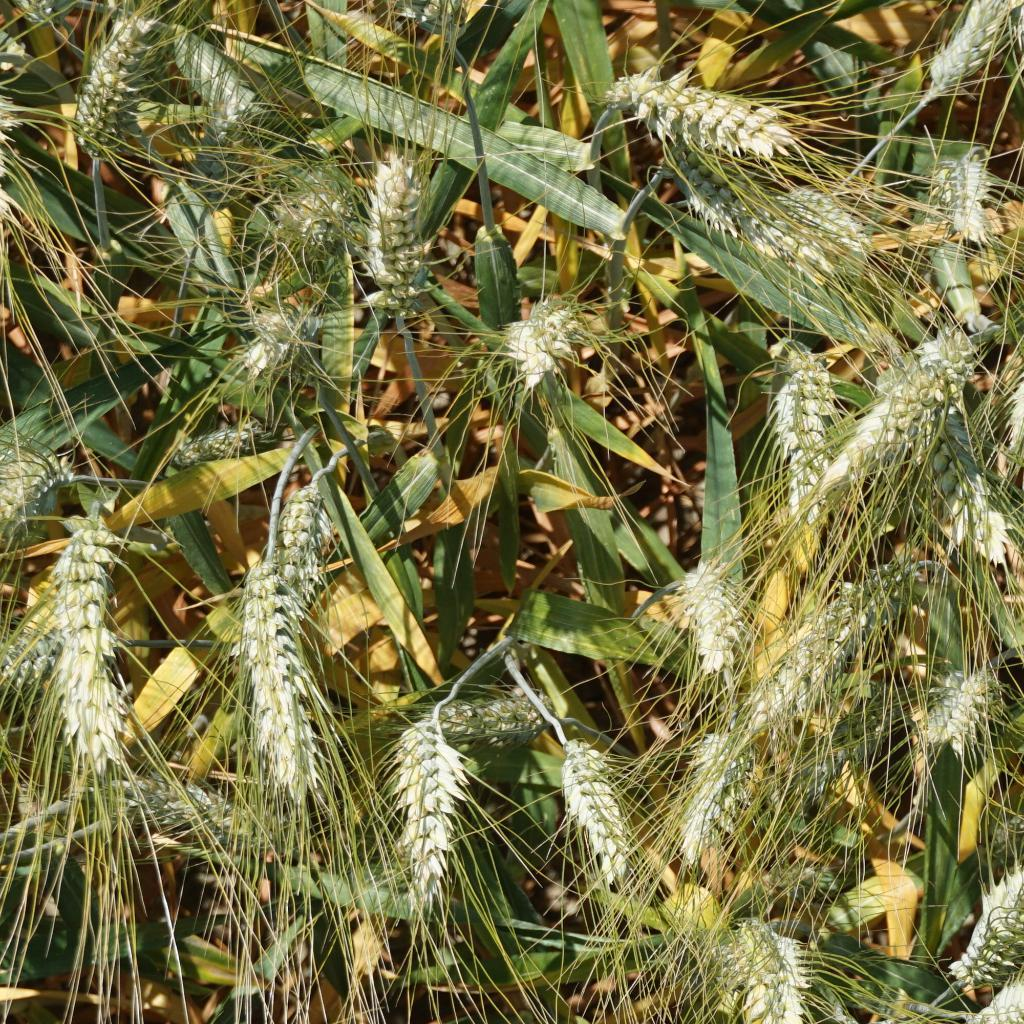0-0: (51, 519, 142, 757), (761, 562, 910, 694), (864, 336, 985, 487), (238, 559, 316, 783), (607, 65, 800, 155), (554, 725, 640, 889), (101, 768, 273, 848), (356, 144, 427, 318), (397, 710, 460, 893), (685, 184, 814, 273), (929, 417, 1009, 559), (73, 20, 138, 172), (922, 0, 1008, 108), (934, 868, 1024, 971), (678, 559, 748, 680), (764, 374, 826, 508), (273, 476, 344, 588), (809, 713, 898, 798), (928, 659, 1004, 758), (685, 719, 738, 860), (739, 932, 814, 1024), (497, 310, 581, 387), (272, 174, 354, 252), (423, 691, 548, 741), (781, 182, 867, 254), (937, 154, 997, 242), (712, 921, 787, 991), (657, 133, 719, 207), (169, 412, 262, 461), (196, 92, 246, 181), (0, 447, 62, 517), (243, 309, 310, 373), (783, 334, 837, 411), (965, 968, 1024, 1024), (409, 0, 478, 46), (0, 625, 51, 681), (771, 845, 822, 898), (982, 802, 1024, 842)
